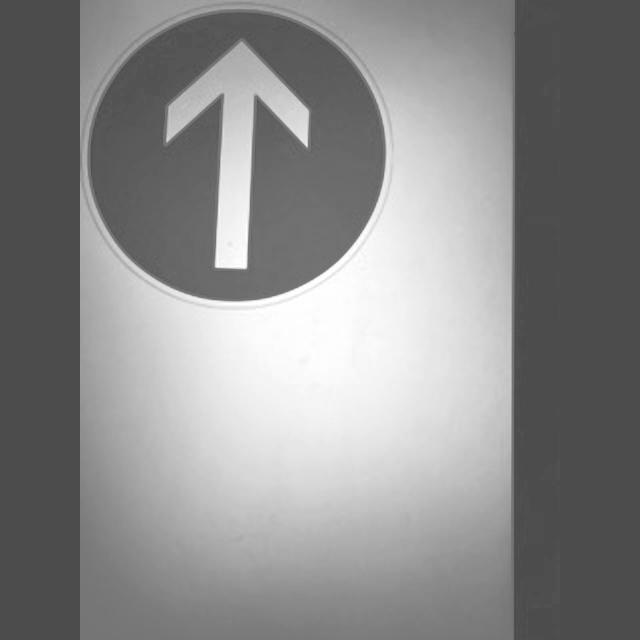GO FORWARD: (83, 4, 395, 310)
